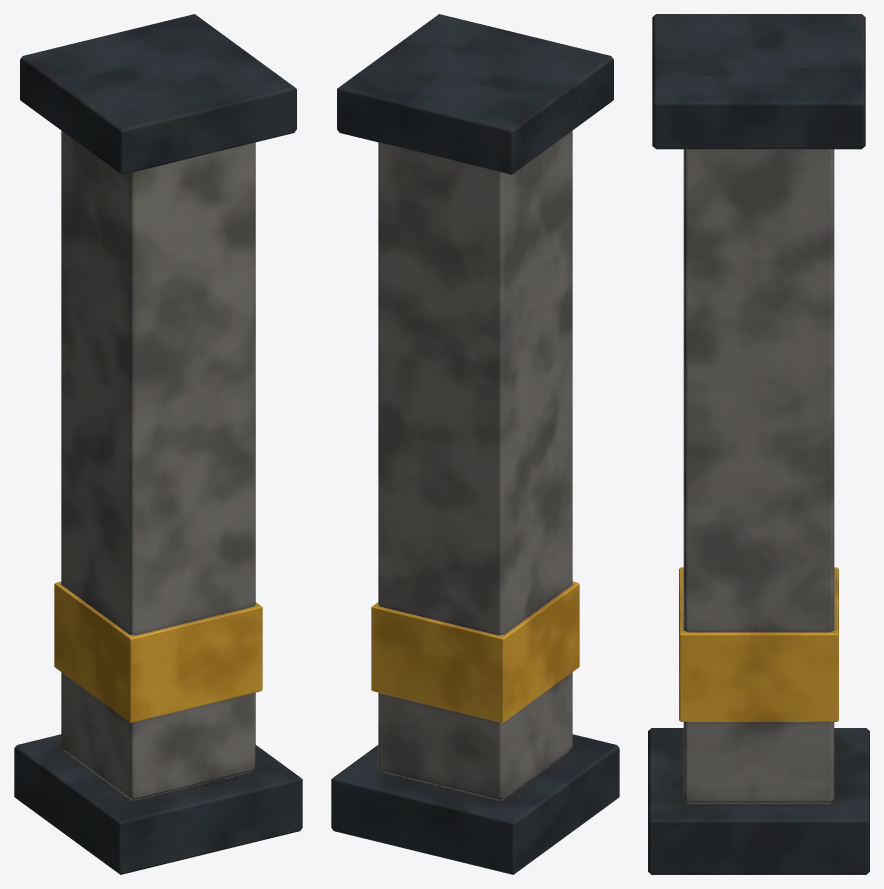
The model's file is concrete_pillar.glb.
The picture shows the model from 3 angles, left to right: view 1: azimuth 30°, elevation 25°; view 2: azimuth 150°, elevation 25°; view 3: azimuth 270°, elevation 25°; orthographic projection. The views are drawn at different scales.
Visible parts, largest first — view 1: ConcretePillar; view 2: ConcretePillar; view 3: ConcretePillar.
Boxes of the visible parts, x1,y1,x2,y2 form: ConcretePillar: (14,14,302,874); ConcretePillar: (331,14,619,874); ConcretePillar: (648,14,869,874).
Size of the model in its own units: 1.25 by 4.8 by 1.25.
1 material, 1 textured.
